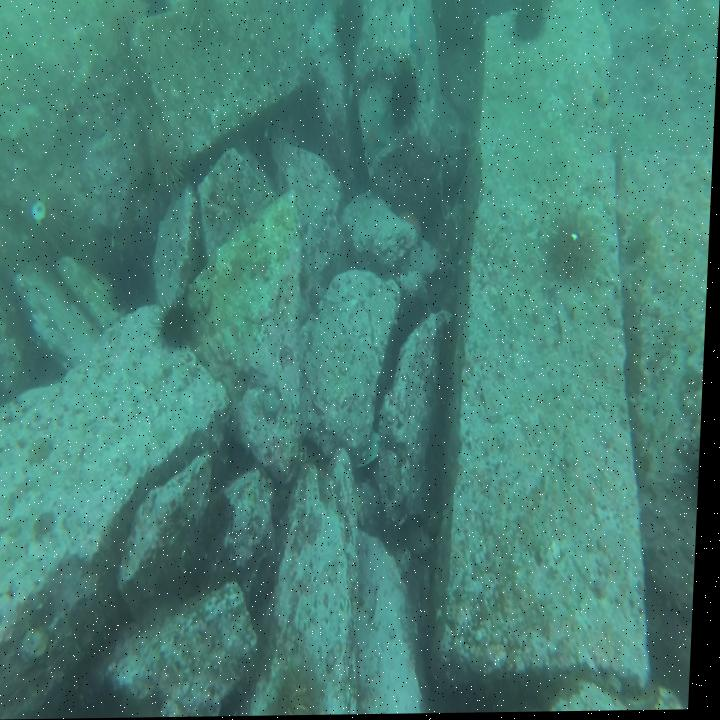echinus: (25, 192, 83, 258), (555, 206, 602, 282), (279, 657, 333, 716), (150, 125, 189, 190), (389, 50, 423, 123), (156, 305, 205, 352), (334, 0, 368, 60), (186, 2, 230, 41), (512, 2, 549, 41)
